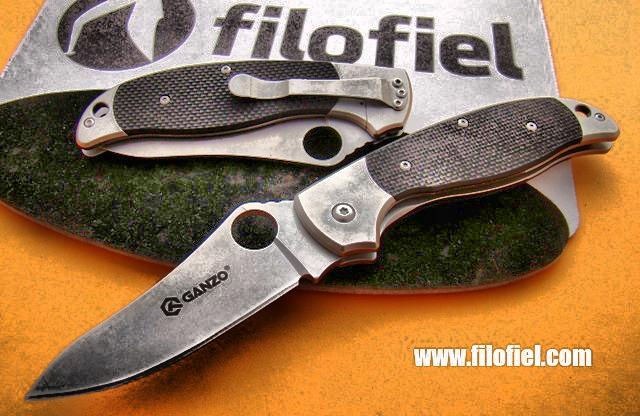knife: (10, 190, 356, 406)
